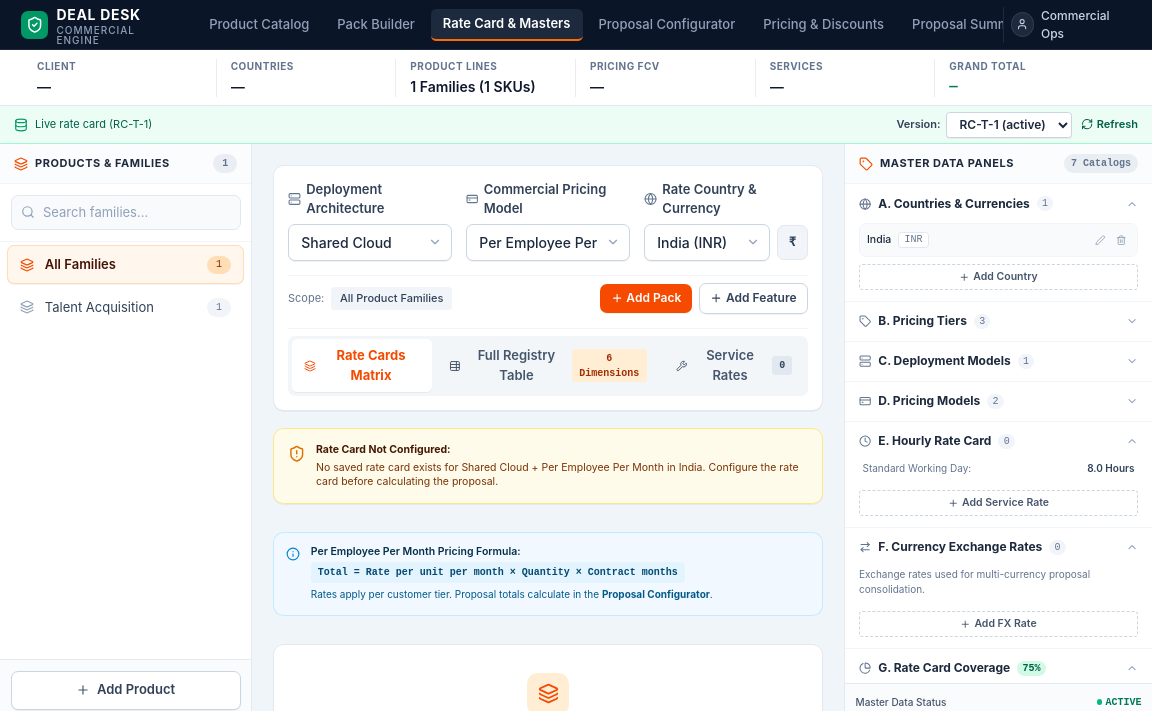
Test case: Rate Card — Platform + Subscription (tier fees, UOM, subscription rate) › lists UOM options from the allowed-UOM API of the selected pricing model
The width and height of the screenshot is (1164, 711).
expect the text "Live rate card (RC-T-1)" is shown: met, box [35,116,152,133]
Select "Platform + Subscription" in the dropdown labelled "Commercial Pricing Model" at (548, 242), box [466,224,630,261]
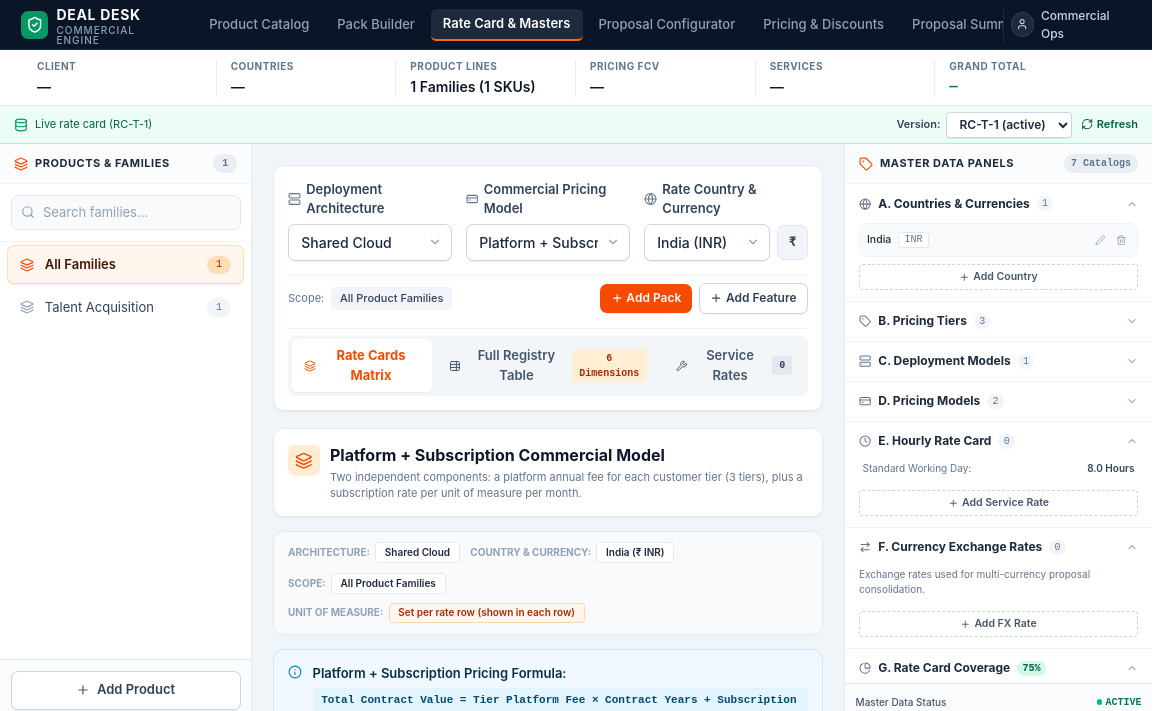
expect the heading "Platform + Subscription Commercial Model" is shown: met, box [330,443,665,467]
